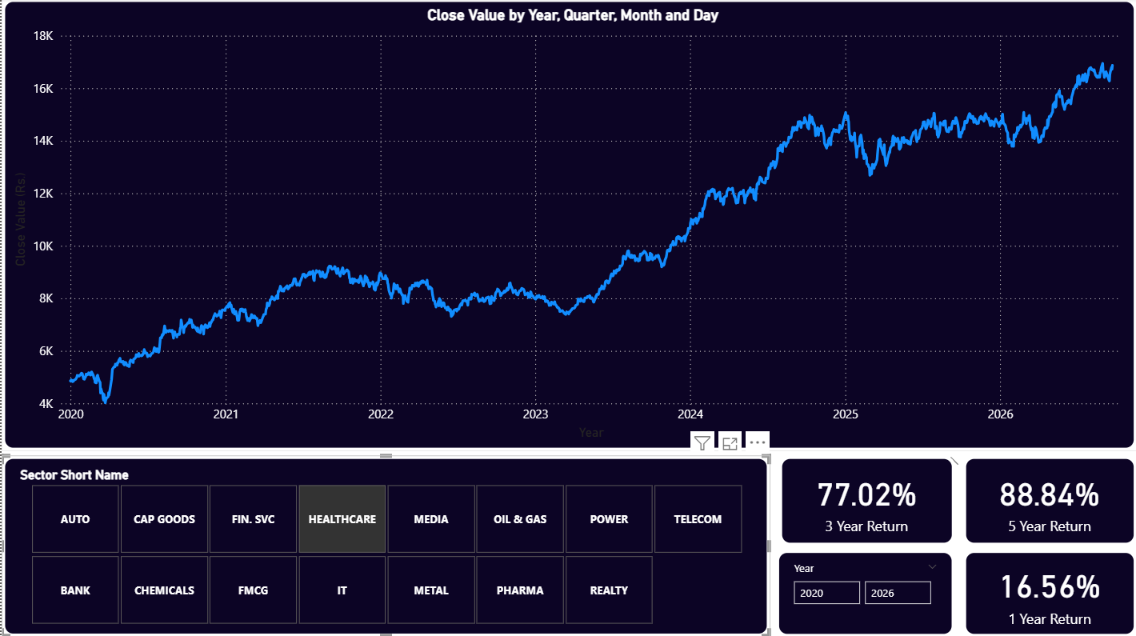

The page's visual inventory and layout, read from the dashboard file:
{"tool":"powerbi","page":{"name":"Page 2","canvas":[1280,720],"ordinal":1},"visuals":[{"type":"lineChart","title":" Close Value by Year, Quarter, Month and Day","fields":{"Category":["Date Table.Date.Variation.Date Hierarchy.Year","Date Table.Date.Variation.Date Hierarchy.Quarter","Date Table.Date.Variation.Date Hierarchy.Month","Date Table.Date.Variation.Date Hierarchy.Day"],"Y":["Max(Combine Data.Close)"]},"box":[0,0,1280.2,510.5],"z":0},{"type":"slicer","fields":{"Values":["Combine Data.Sector Short Name"]},"box":[0,515.1,866.3,204.7],"z":1000},{"type":"slicer","fields":{"Values":["Date Table.Year"]},"box":[872.1,620.9,202.3,98.8],"z":1001},{"type":"card","fields":{"Values":["Combine Data.3 Year Return"]},"box":[875.6,514.5,198.8,102.3],"z":1002},{"type":"card","fields":{"Values":["Combine Data.5 Year Return"]},"box":[1083.7,514.5,196.5,102.3],"z":1003},{"type":"card","fields":{"Values":["Combine Data.1 Year Return"]},"box":[1083.7,620.9,196.5,98.8],"z":1004}]}

Visuals, with their boxes in screenshot pixels (x1, y1, x2, y2), scaled from the page's 1280x720 canvas onto the 1136x636 screenshot:
" Close Value by Year, Quarter, Month and Day" lineChart: crop(0, 0, 1135, 451)
slicer - Combine Data.Sector Short Name: crop(0, 455, 769, 635)
slicer - Date Table.Year: crop(774, 548, 954, 635)
card - Combine Data.3 Year Return: crop(777, 454, 954, 545)
card - Combine Data.5 Year Return: crop(962, 454, 1135, 545)
card - Combine Data.1 Year Return: crop(962, 548, 1135, 635)
